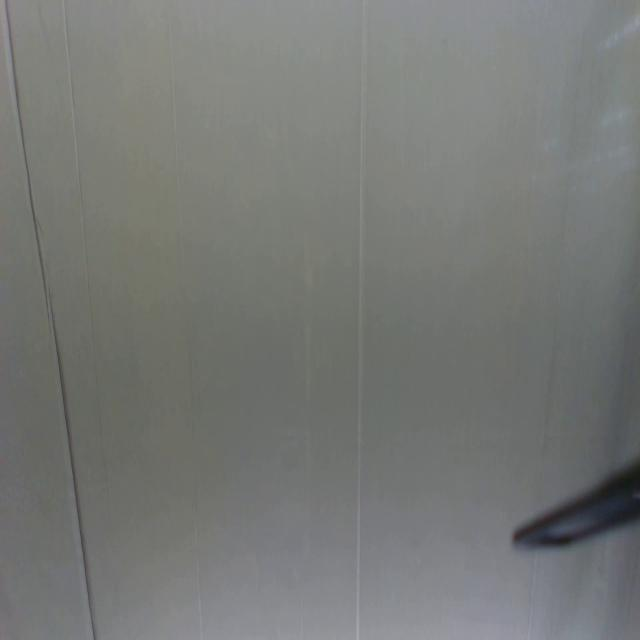crease: (5, 0, 95, 640), (539, 7, 589, 488), (168, 1, 205, 638), (60, 0, 105, 450), (355, 0, 369, 639), (527, 553, 538, 639)
